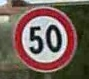limite 50: (11, 6, 78, 72)
